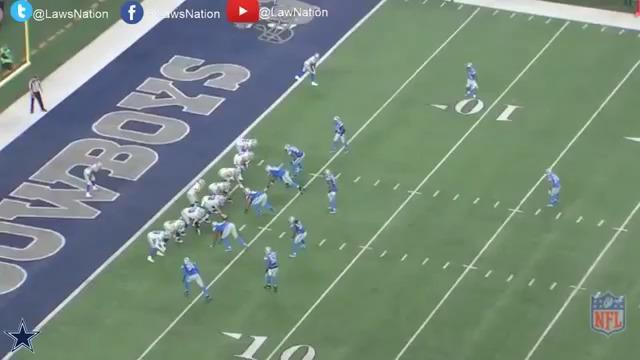player: (183, 257, 214, 303), (208, 221, 248, 255), (264, 164, 304, 193), (240, 187, 274, 218), (295, 52, 323, 89), (328, 115, 351, 157), (287, 216, 308, 261), (263, 246, 282, 294), (542, 167, 562, 212), (147, 228, 172, 264), (178, 206, 206, 237), (323, 169, 340, 218), (201, 193, 228, 223), (84, 159, 103, 199), (283, 143, 305, 177), (206, 181, 231, 210), (162, 218, 186, 247), (461, 61, 478, 101), (218, 165, 243, 192), (233, 150, 254, 181), (187, 177, 203, 210), (235, 137, 258, 154)
ref: (26, 76, 48, 117)
